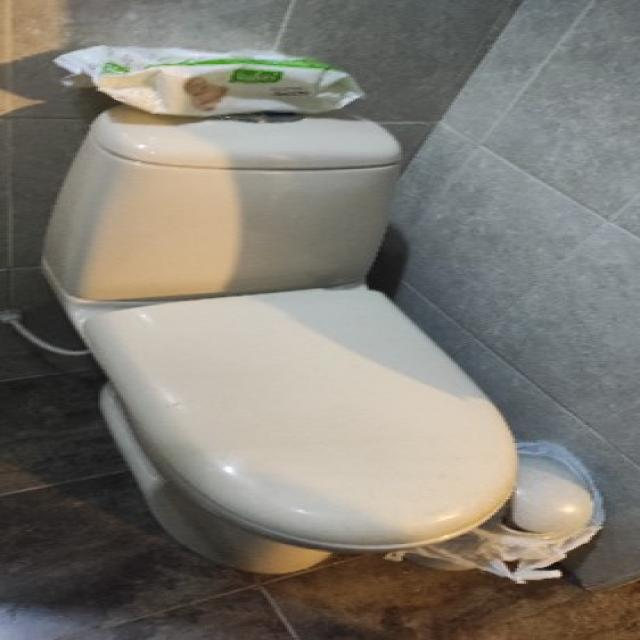toilet: (34, 104, 527, 584)
